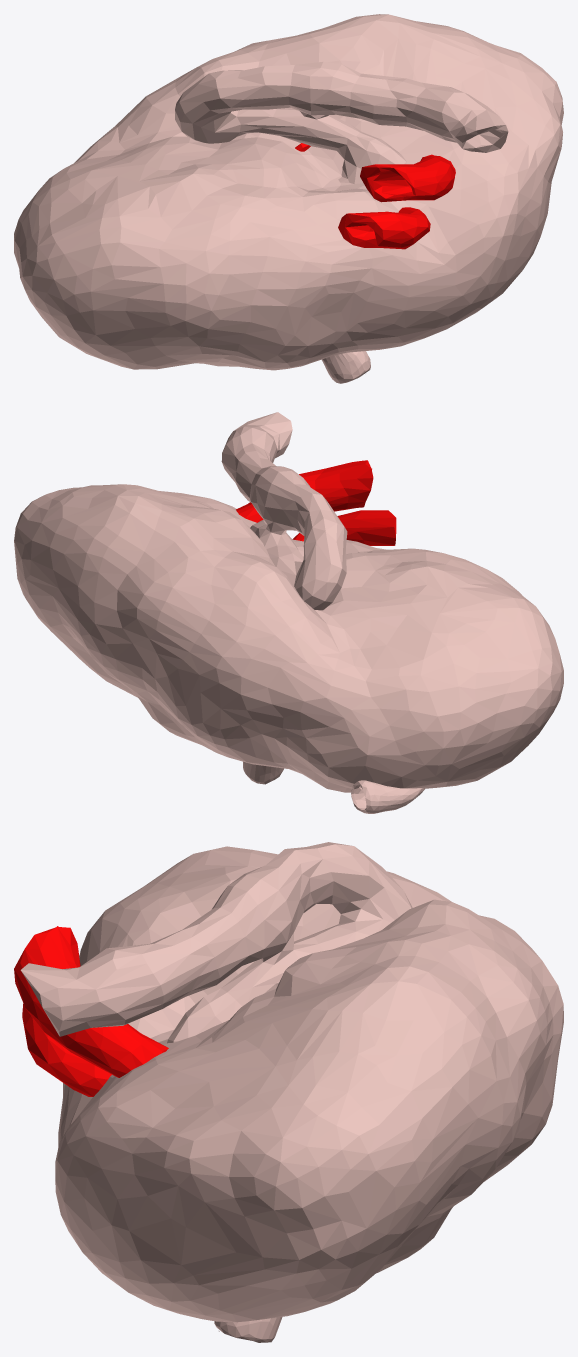
File: NIH_F_Lymph_Node_0.2.glb
3 renders of one model, top to bottom at view 1: azimuth 30°, elevation 25°; view 2: azimuth 150°, elevation 25°; view 3: azimuth 270°, elevation 25°, orthographic. The views are drawn at different scales.
Parts seen in each view (by area): view 1: Yao_capsule_of_lymph_node, Yao_efferent_lymph_node, Yao_blood_vasculature, Yao_afferent_lymphatic_vessel; view 2: Yao_capsule_of_lymph_node, Yao_efferent_lymph_node, Yao_blood_vasculature, Yao_afferent_lymphatic_vessel; view 3: Yao_capsule_of_lymph_node, Yao_efferent_lymph_node, Yao_blood_vasculature, Yao_afferent_lymphatic_vessel.
Boxes of the visible parts, x1,y1,x2,y2 form: Yao_capsule_of_lymph_node: (14, 14, 563, 370); Yao_efferent_lymph_node: (175, 61, 508, 183); Yao_blood_vasculature: (295, 143, 455, 249); Yao_afferent_lymphatic_vessel: (322, 351, 370, 383); Yao_capsule_of_lymph_node: (14, 484, 563, 792); Yao_efferent_lymph_node: (221, 412, 347, 610); Yao_blood_vasculature: (236, 460, 396, 545); Yao_afferent_lymphatic_vessel: (243, 761, 424, 813); Yao_capsule_of_lymph_node: (55, 846, 563, 1322); Yao_efferent_lymph_node: (20, 842, 412, 1043); Yao_blood_vasculature: (14, 926, 168, 1096); Yao_afferent_lymphatic_vessel: (214, 1317, 282, 1342).
Bounding box in the file's own units: 0.0197 × 0.0113 × 0.0125.
